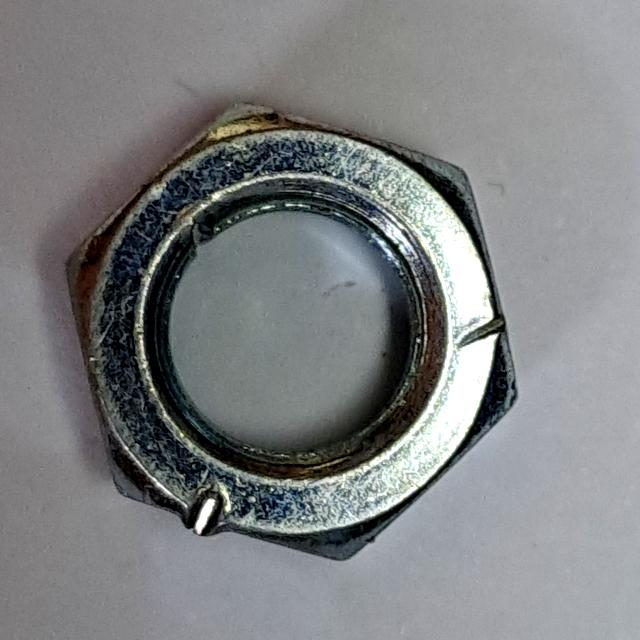Scratches: (51, 92, 545, 572)
